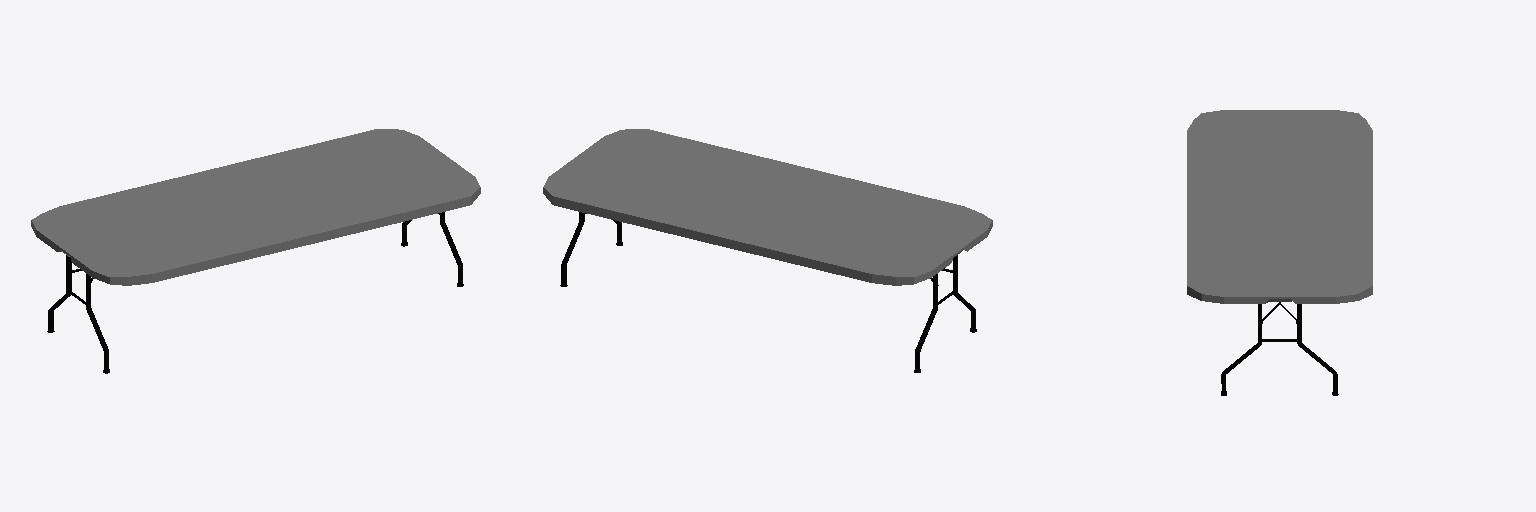
File: Table.obj
3 views of the same model, side by side, from view 1: azimuth 30°, elevation 25°; view 2: azimuth 150°, elevation 25°; view 3: azimuth 270°, elevation 25° (orthographic).
Visible parts, largest first — view 1: Table, Table pCylinder8 pCylinder7 pCylinder9 pCylinder10; view 2: Table, Table pCylinder8 pCylinder7 pCylinder9 pCylinder10; view 3: Table, Table pCylinder8 pCylinder7 pCylinder9 pCylinder10.
Boxes of the visible parts, x1=… form: Table: x1=31, y1=129, x2=480, y2=285; Table pCylinder8 pCylinder7 pCylinder9 pCylinder10: x1=47, y1=212, x2=463, y2=373; Table: x1=543, y1=129, x2=992, y2=285; Table pCylinder8 pCylinder7 pCylinder9 pCylinder10: x1=560, y1=212, x2=976, y2=372; Table: x1=1187, y1=110, x2=1372, y2=303; Table pCylinder8 pCylinder7 pCylinder9 pCylinder10: x1=1221, y1=304, x2=1338, y2=395.
Bounding box in the file's own units: 6.94 × 1.82 × 2.91.